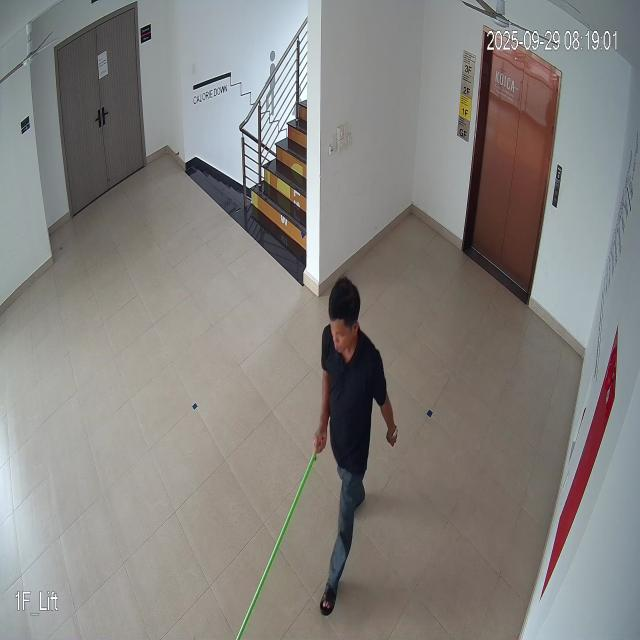face: (318, 270, 365, 364)
